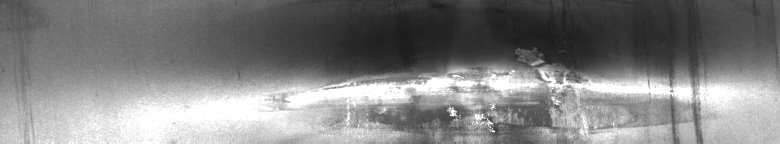ke: (324, 48, 608, 135)
